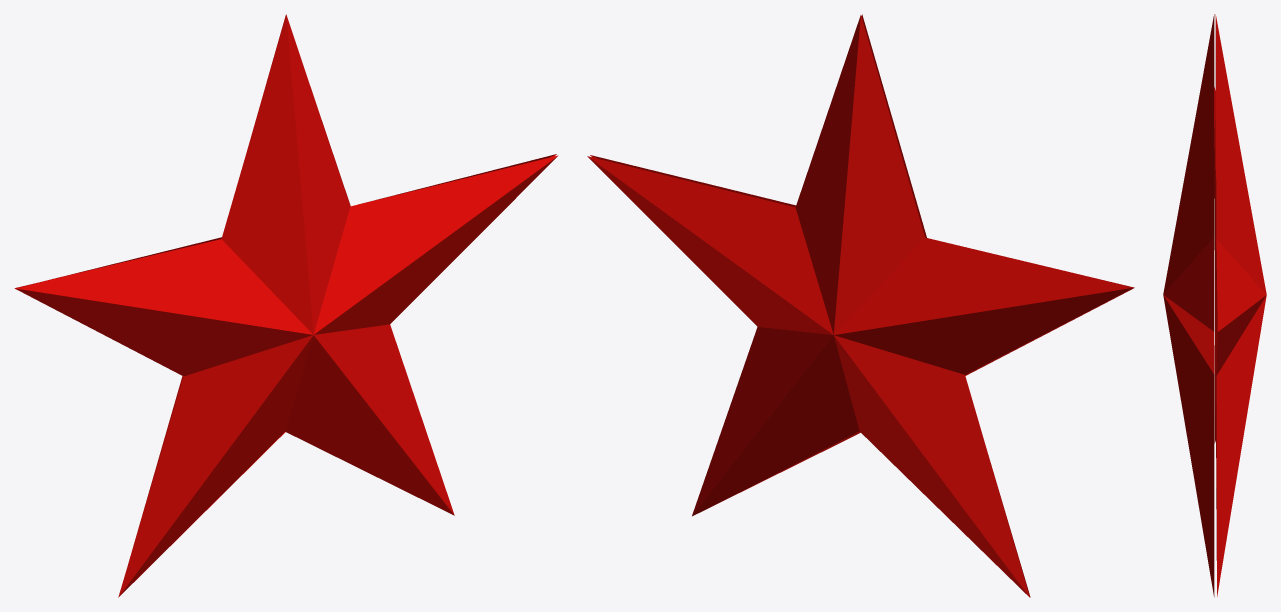
Rendered from redstar.gltf.
The picture shows the model from 3 angles, left to right: view 1: azimuth 30°, elevation 25°; view 2: azimuth 150°, elevation 25°; view 3: azimuth 270°, elevation 25°; orthographic projection. The views are drawn at different scales.
Parts seen in each view (by area): view 1: Circle.001_1, Circle_0; view 2: Circle_0, Circle.001_1; view 3: Circle_0, Circle.001_1.
Boxes of the visible parts, x1=… form: Circle.001_1: x1=14, y1=15, x2=558, y2=597; Circle_0: x1=15, y1=14, x2=556, y2=582; Circle_0: x1=587, y1=15, x2=1133, y2=597; Circle.001_1: x1=590, y1=14, x2=1134, y2=597; Circle_0: x1=1214, y1=14, x2=1266, y2=596; Circle.001_1: x1=1163, y1=14, x2=1214, y2=597.
Bounding box in the file's own units: 3.23 × 3.07 × 0.567.
